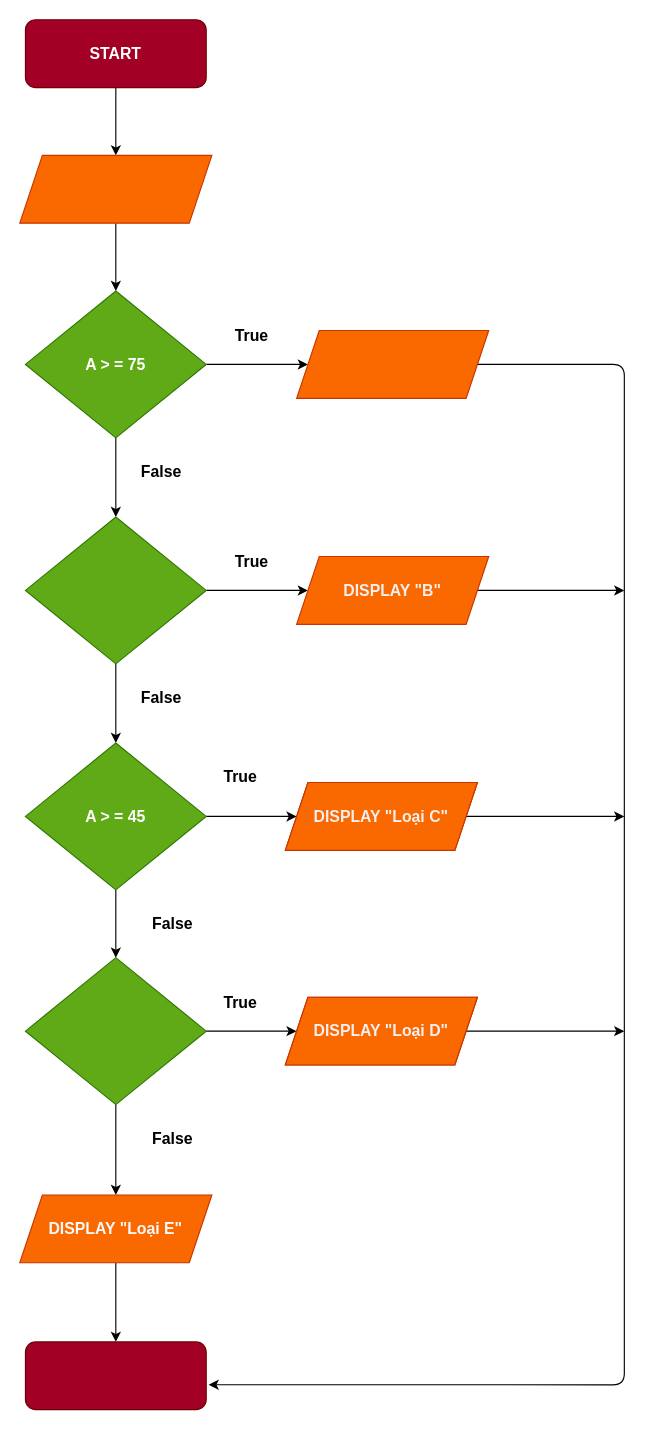
Image size: 653x1429. Some labels were removed from this diagram. The shapes that lost their labels are listed below. From the top down, each one's centre as x and y in pixels, then its label:
pixel 115 188: INPUT A
pixel 392 363: DISPLAY "LOẠI A"
pixel 115 590: A > = 60
pixel 115 1031: A > = 35
pixel 115 1375: END
